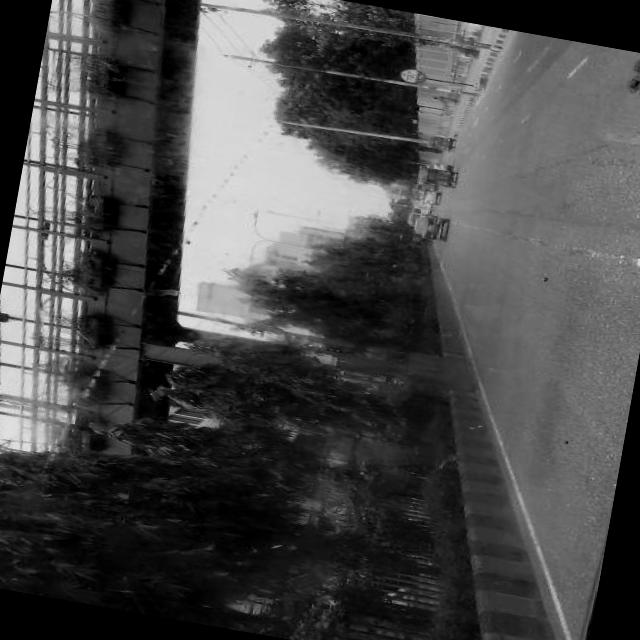car: (411, 211, 450, 240), (421, 186, 438, 204)
motorcycle: (417, 163, 457, 186), (425, 132, 457, 152)
